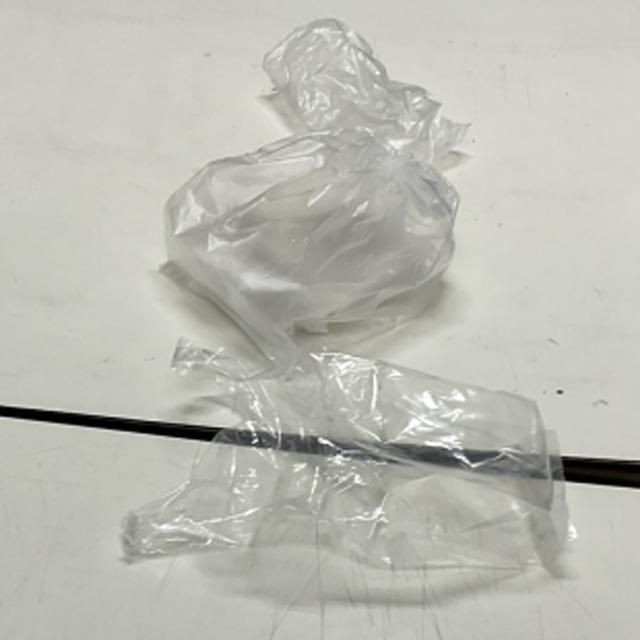Single-layer Plastic: (164, 19, 468, 362), (121, 346, 570, 573), (262, 20, 469, 164)
